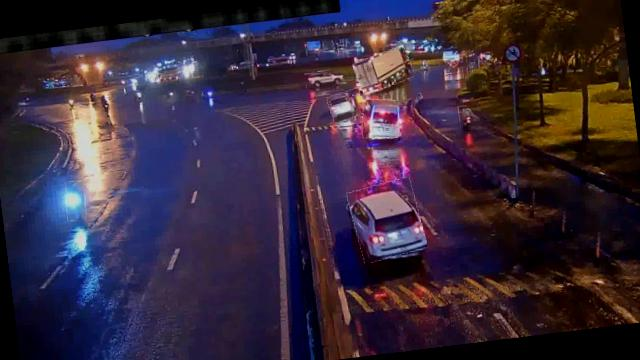Bike: (64, 180, 88, 221), (458, 105, 470, 129)
Bus: (359, 96, 401, 140)
Car: (348, 178, 427, 262), (327, 88, 365, 121), (304, 68, 347, 88)
Truck: (352, 47, 413, 92)
